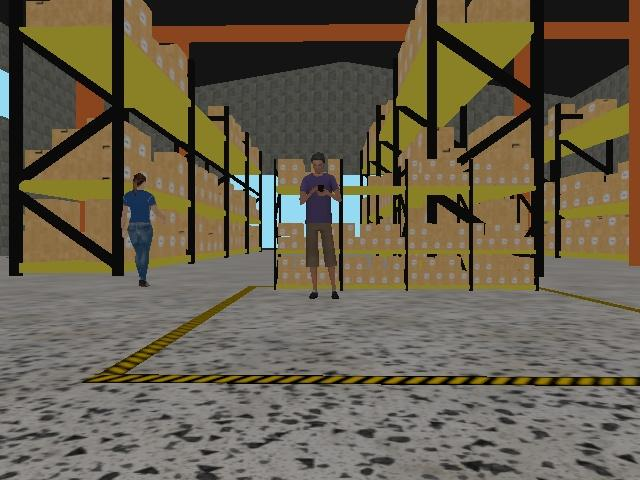person: (297, 151, 344, 302), (120, 172, 169, 289)
